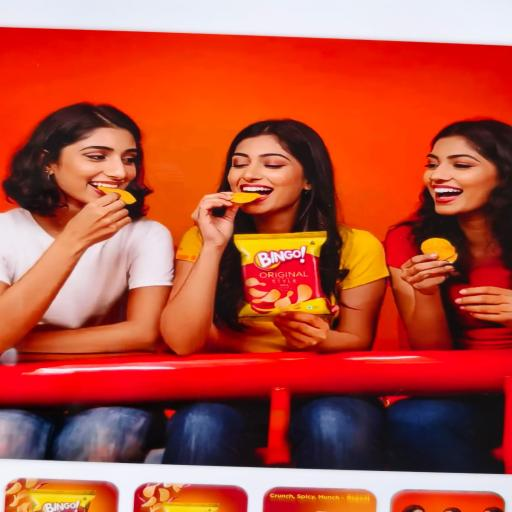green_chips: (235, 231, 329, 319)
